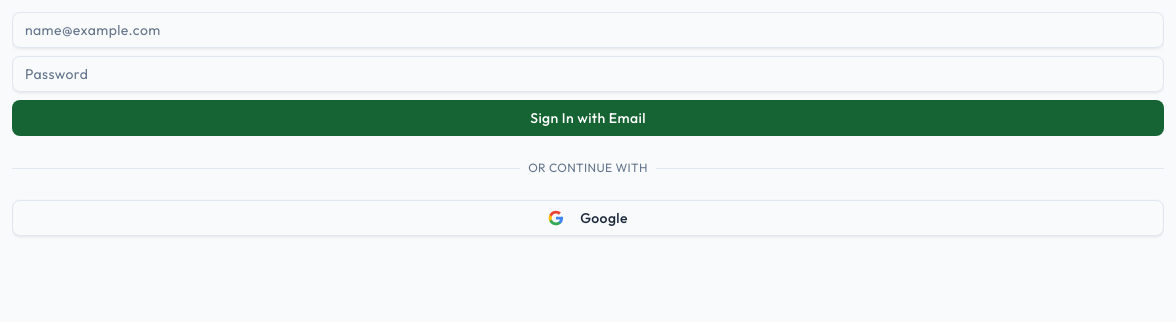
UserAuthForm › Login Form › should show error for empty password
This screenshot has width=1176, height=322.
Step 1. Type "test@example.com" into the field with placeholder "name@example.com" → (588, 30), box [12,12,1164,48]
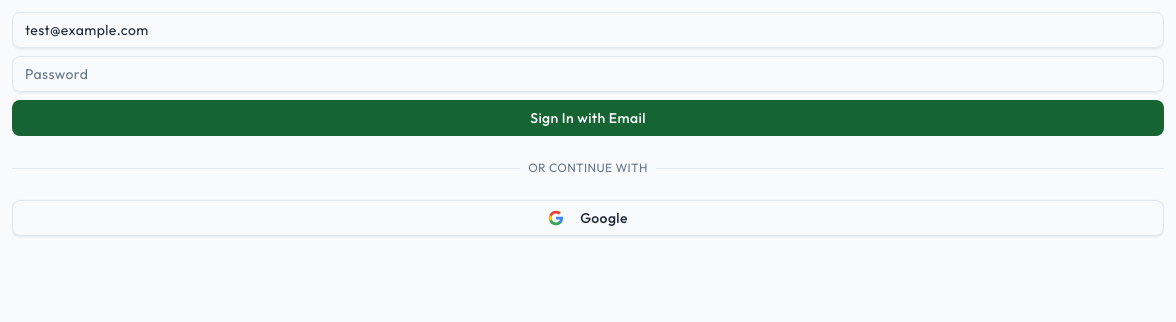
Step 2. Click the button "Sign In with Email" → (588, 118), box [12,100,1164,136]
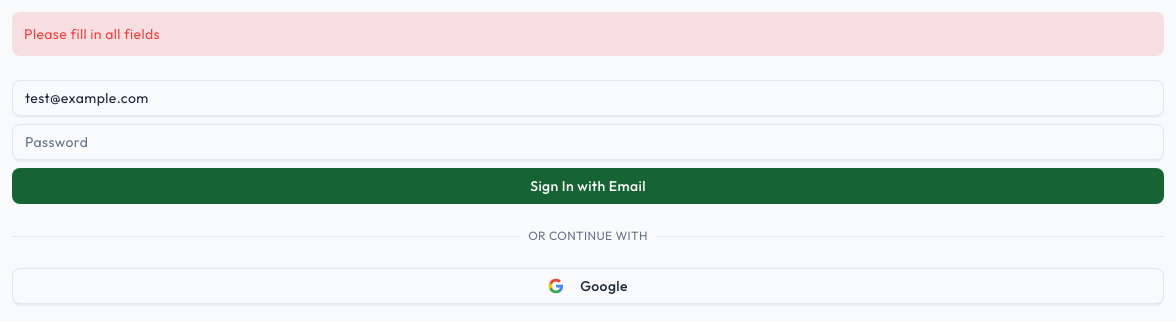
Result: the text "Please fill in all fields" is shown at [24,25,160,43]
